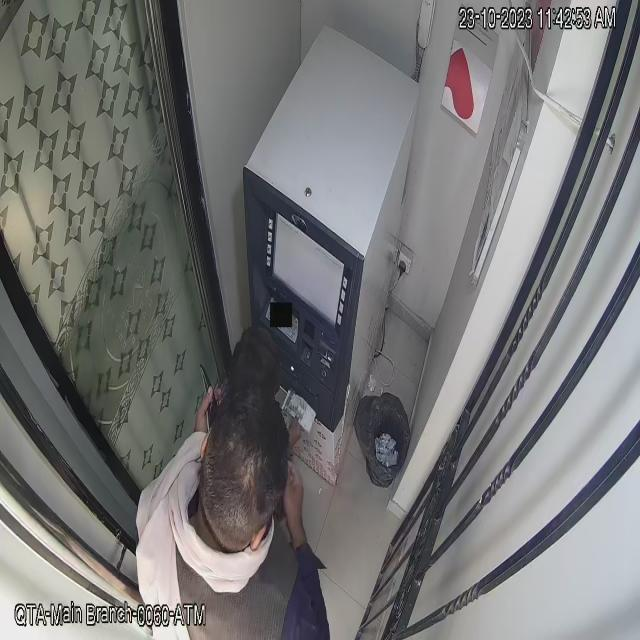note: (277, 384, 320, 443)
